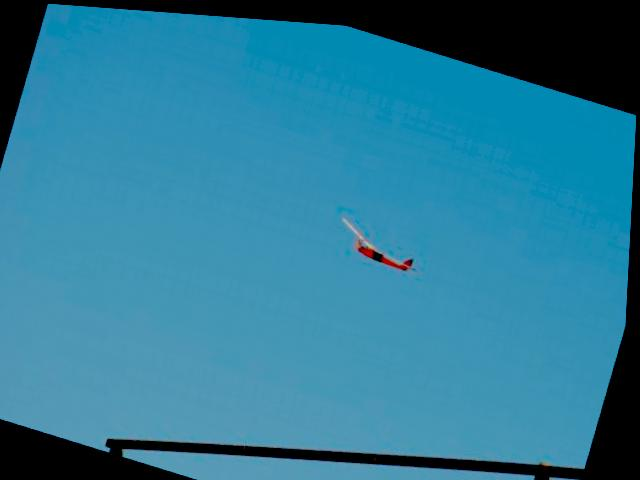iha: (336, 215, 429, 273)
